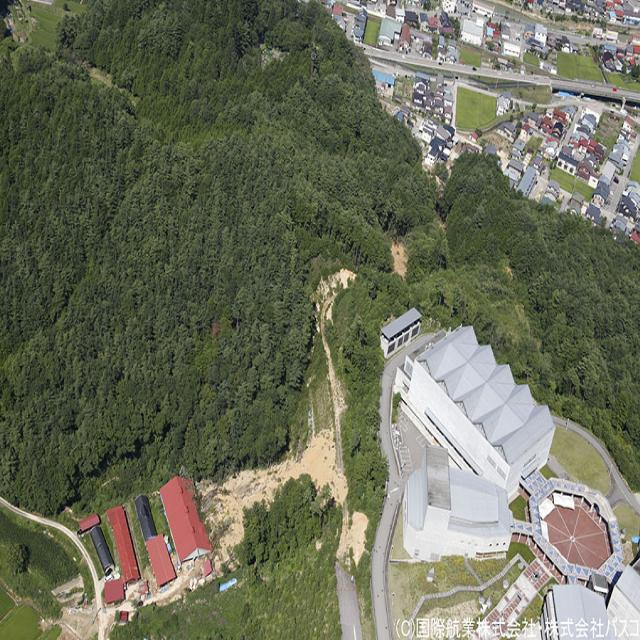Debris-flow: (199, 268, 356, 562), (338, 510, 369, 563), (392, 244, 408, 277)
